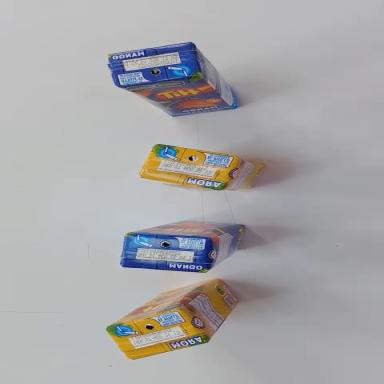HIT-MANGO: (106, 37, 237, 123), (120, 217, 245, 275)
HIT-MORA: (102, 273, 246, 367), (139, 141, 264, 198)
cara_F: (117, 71, 233, 123), (102, 278, 222, 327), (126, 216, 244, 243)
